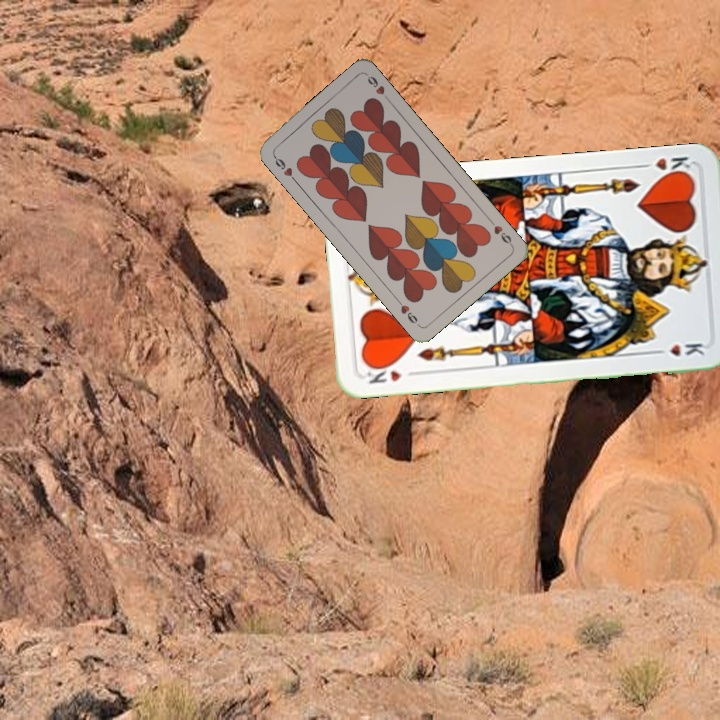H9: (485, 215, 515, 249), (269, 151, 299, 185)
HK: (635, 152, 695, 180), (361, 360, 419, 386)
